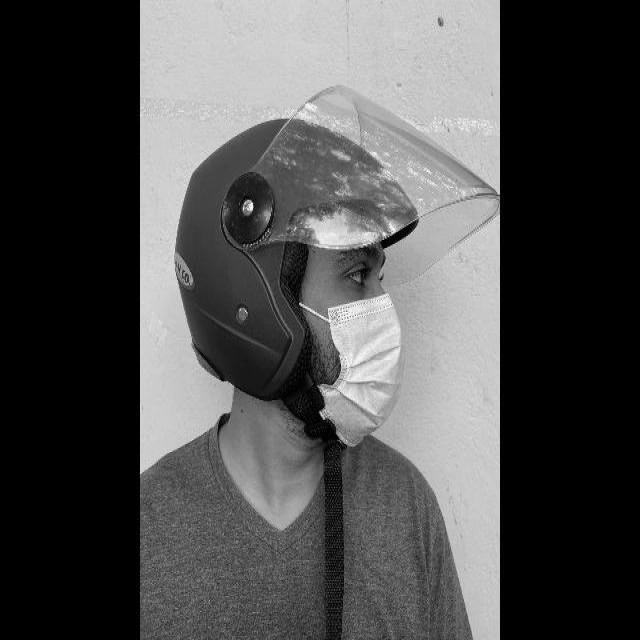5_casco: (173, 84, 499, 400)
